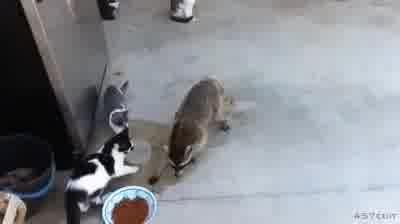raccoon: (166, 76, 231, 182)
